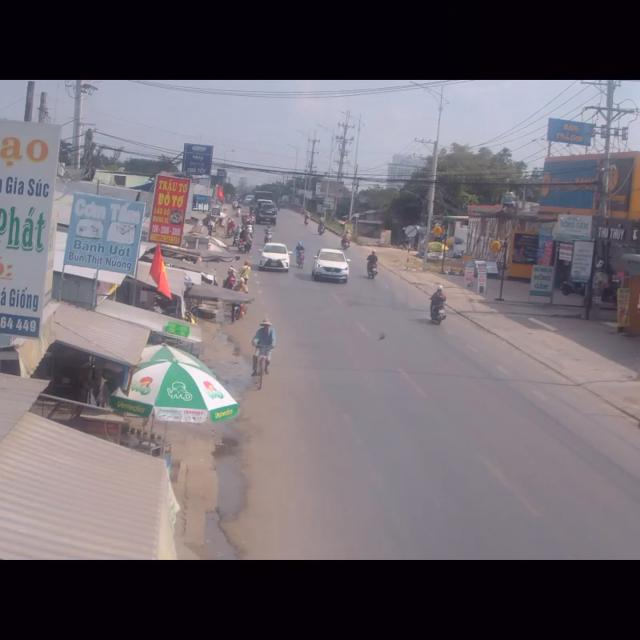car: (310, 247, 350, 288), (259, 240, 292, 274)
motorbike: (427, 281, 445, 327), (363, 245, 377, 281)
